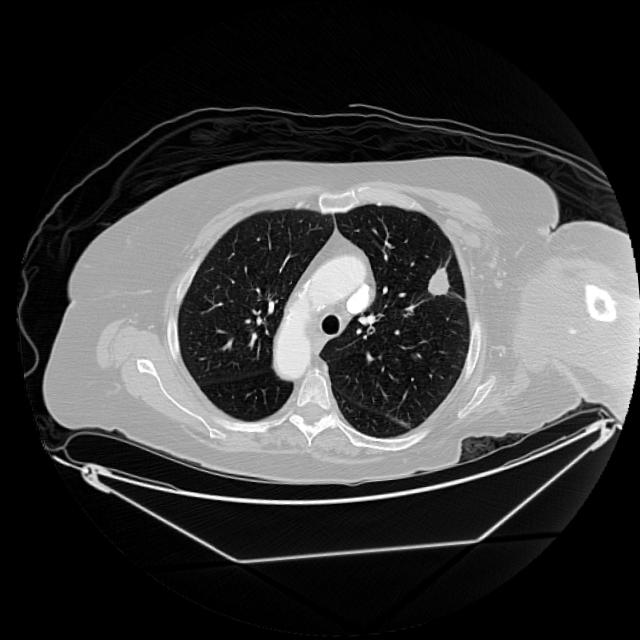nodule: (413, 252, 469, 308)
